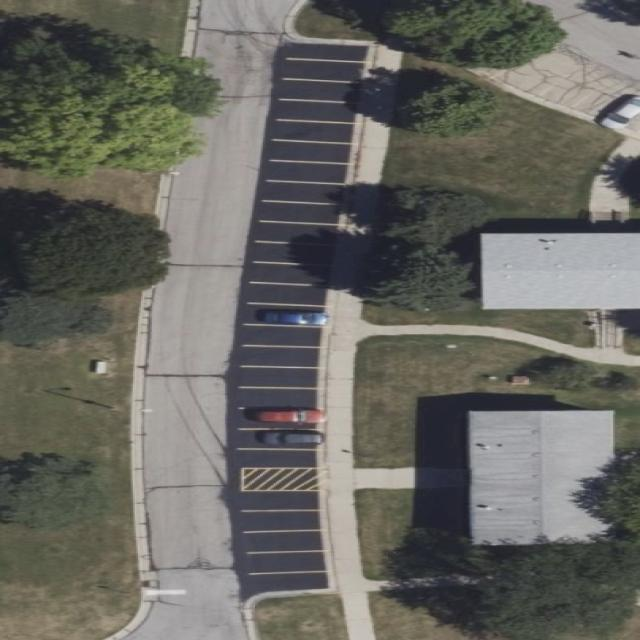Empty: (280, 58, 365, 83), (256, 221, 340, 246), (269, 140, 353, 164), (285, 40, 372, 63), (276, 120, 355, 145), (254, 242, 336, 266), (278, 79, 359, 103), (269, 161, 349, 185), (262, 201, 342, 225), (244, 530, 326, 553), (249, 571, 327, 595), (275, 100, 356, 123), (251, 263, 332, 286), (244, 510, 325, 533), (248, 551, 329, 574), (266, 181, 345, 204), (249, 283, 327, 306), (240, 367, 321, 389), (246, 325, 322, 348), (243, 346, 321, 368), (242, 491, 323, 512), (239, 388, 319, 409), (240, 449, 319, 469)
Parked: (247, 304, 326, 328), (240, 428, 321, 450), (240, 409, 321, 430)
